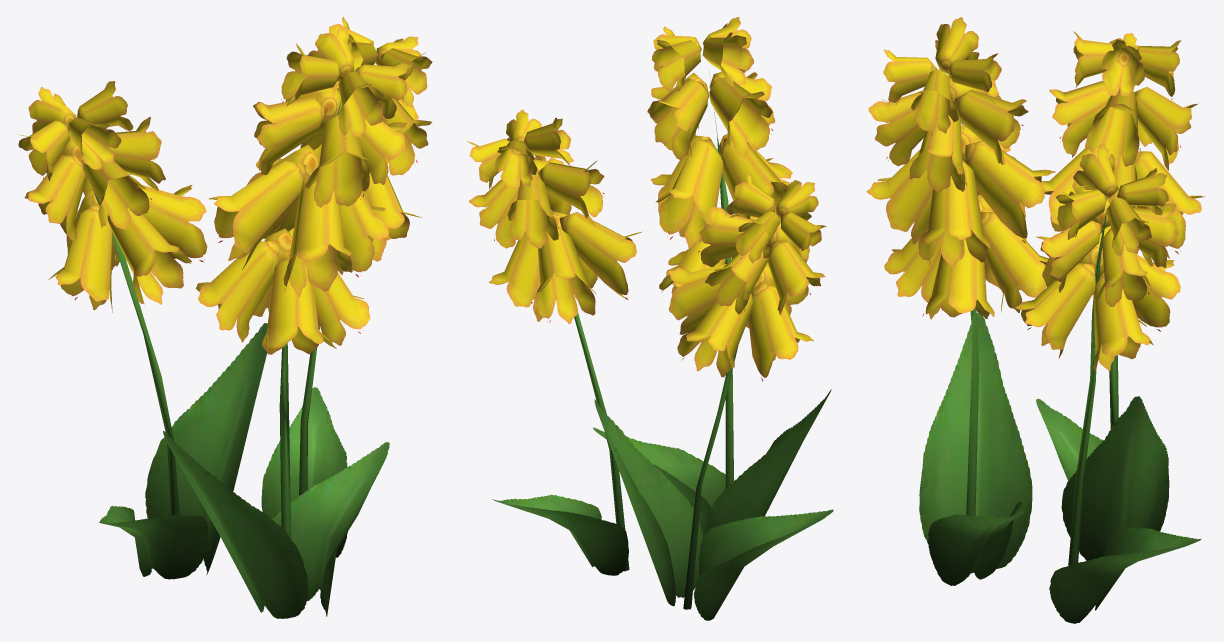
The model's file is Flower_4_Group.gltf.
3 renders of one model, left to right at view 1: azimuth 30°, elevation 25°; view 2: azimuth 150°, elevation 25°; view 3: azimuth 270°, elevation 25°, orthographic. The views are drawn at different scales.
Visible parts, largest first — view 1: Flower_4_Group; view 2: Flower_4_Group; view 3: Flower_4_Group.
Boxes of the visible parts, box(x1,y1,x2,y2) form: Flower_4_Group: box(17, 17, 432, 618); Flower_4_Group: box(467, 17, 833, 620); Flower_4_Group: box(866, 17, 1205, 623).
Bounding box in the file's own units: 1.78 × 2.49 × 1.37.
Materials: 2 (2 with a texture image).
